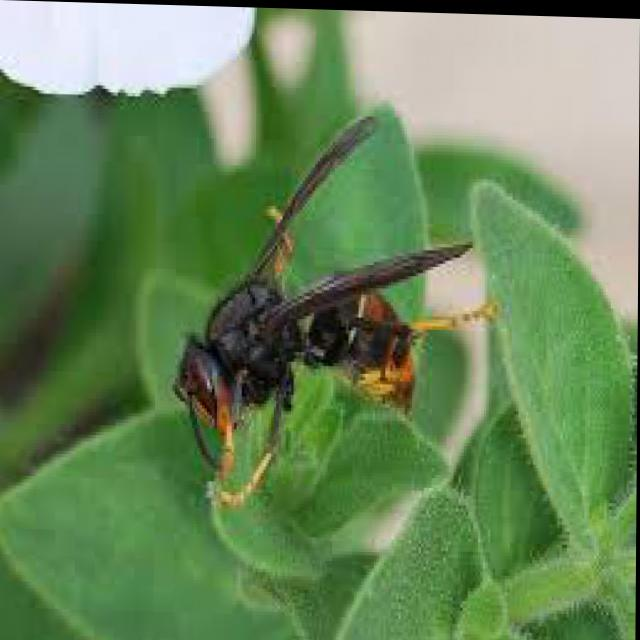Vespa Velutina: (167, 94, 505, 520)
